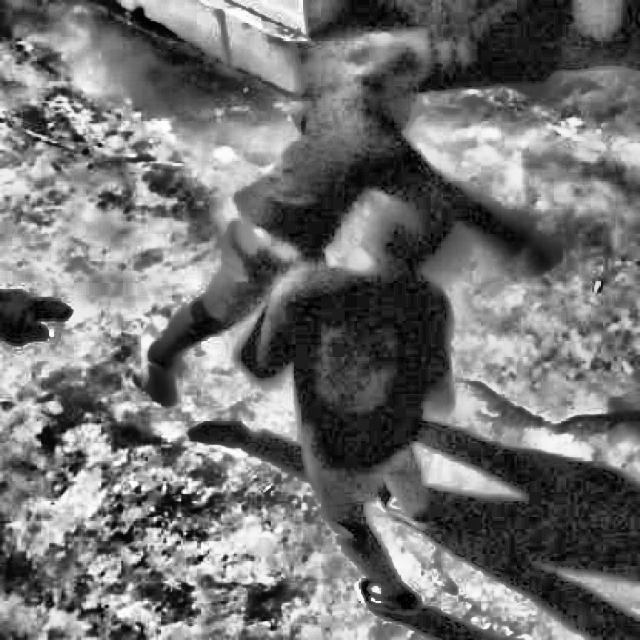robbery: (135, 26, 569, 627)
